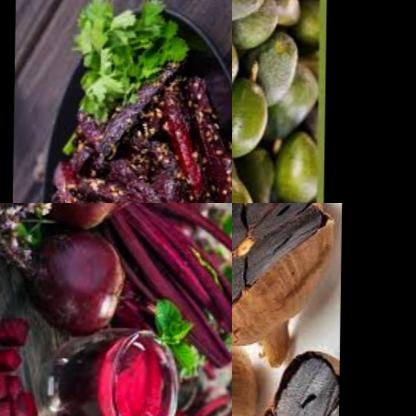avocado: (232, 55, 274, 155), (256, 29, 312, 104), (269, 137, 325, 203), (280, 62, 321, 147), (232, 0, 277, 32), (232, 164, 268, 203)
beet: (45, 86, 232, 203), (25, 230, 131, 330), (69, 344, 178, 416), (107, 203, 209, 246), (0, 314, 37, 416), (35, 203, 130, 235)
garlic: (232, 203, 322, 377), (238, 348, 338, 416)
